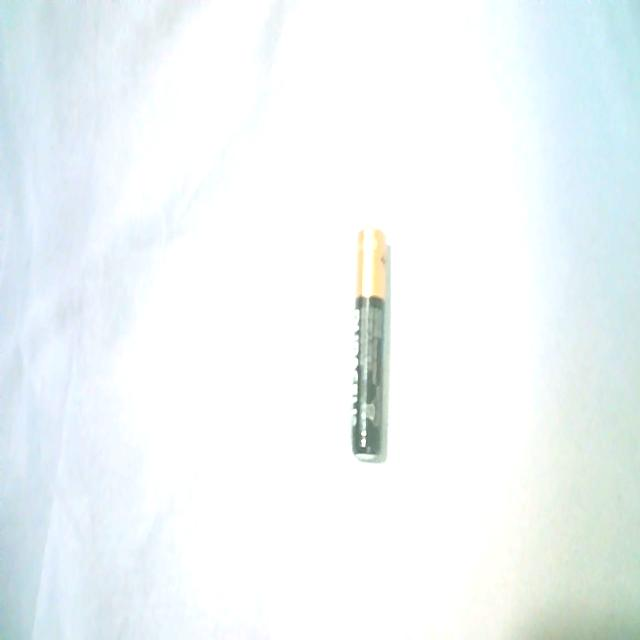AAA: (345, 221, 393, 467)
